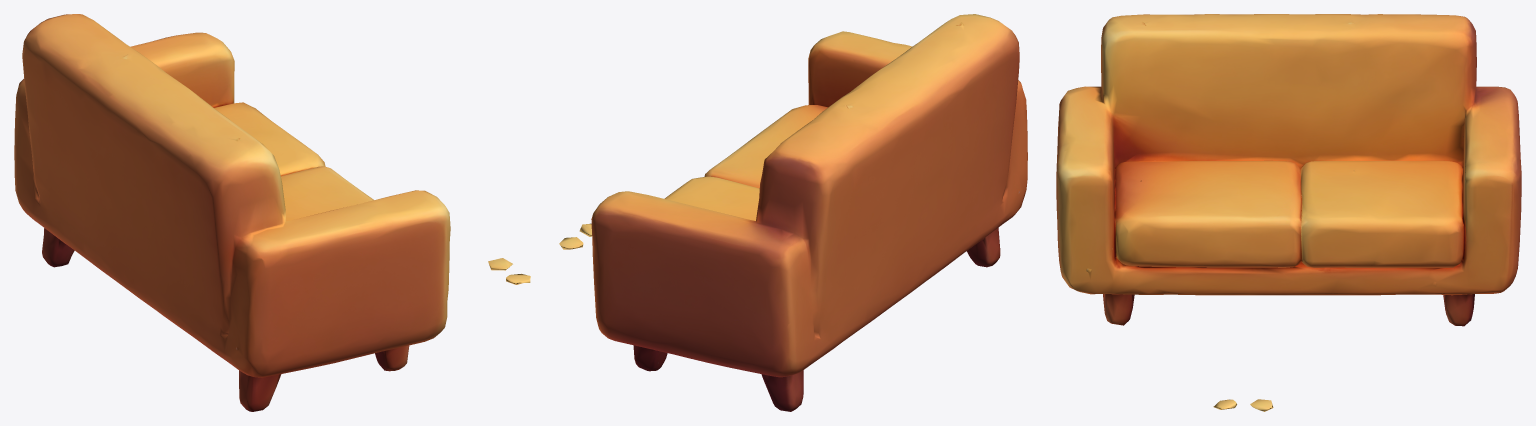
Rendered from prop_sofa_2seat_tripo_20261113.glb.
The picture shows the model from 3 angles, left to right: view 1: azimuth 30°, elevation 25°; view 2: azimuth 150°, elevation 25°; view 3: azimuth 270°, elevation 25°; orthographic projection. The views are drawn at different scales.
Parts seen in each view (by area): view 1: tripo_node_9bd4a7f2-97ae-4c5e-9082-59c35874d339; view 2: tripo_node_9bd4a7f2-97ae-4c5e-9082-59c35874d339; view 3: tripo_node_9bd4a7f2-97ae-4c5e-9082-59c35874d339.
Part boxes in pixels (<box>): tripo_node_9bd4a7f2-97ae-4c5e-9082-59c35874d339: <box>14,14,530,411</box>; tripo_node_9bd4a7f2-97ae-4c5e-9082-59c35874d339: <box>559,14,1027,411</box>; tripo_node_9bd4a7f2-97ae-4c5e-9082-59c35874d339: <box>1056,14,1521,411</box>.
Size of the model in its own units: 0.8804 by 0.564 by 1.
Materials: 1 (1 with a texture image).
